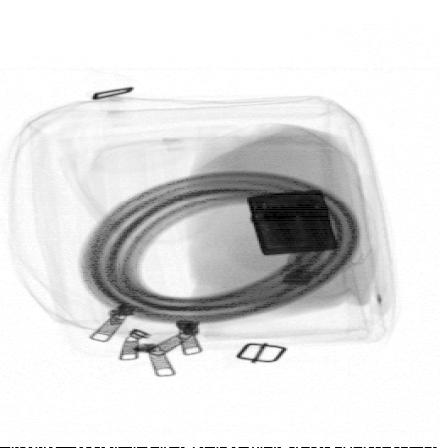Lighter: (245, 190, 340, 256)
